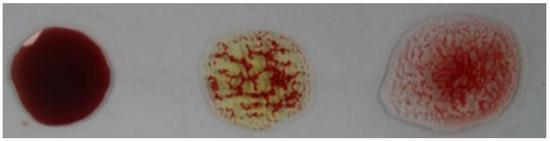B: (201, 25, 316, 129)
D: (389, 14, 522, 132)
